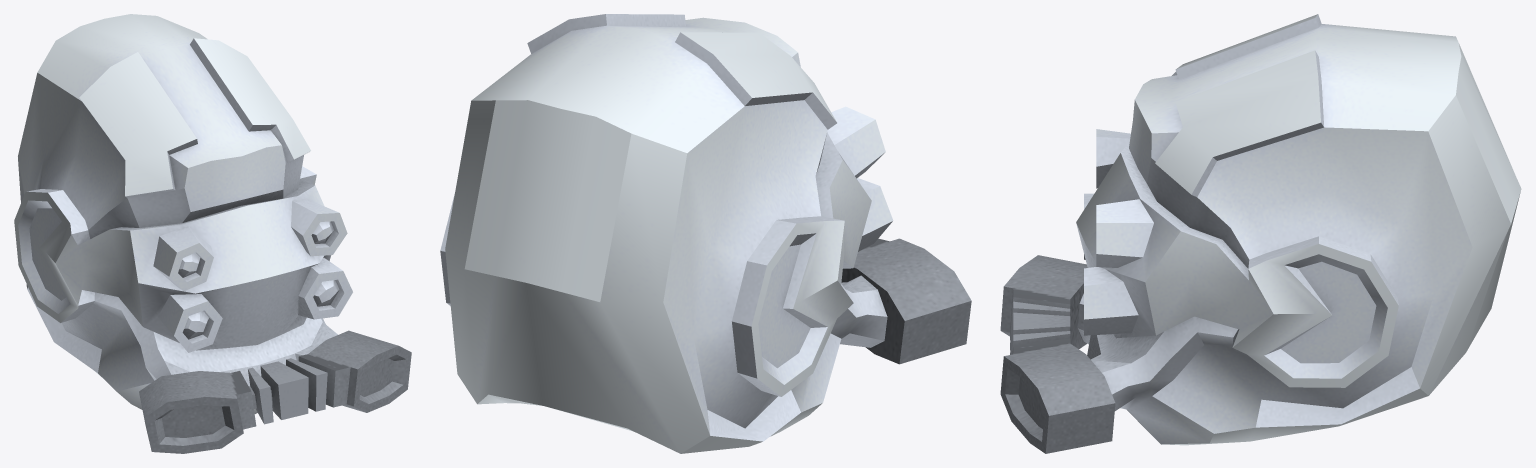
The model's file is helmet_0_silver.glb.
3 renders of one model, left to right at view 1: azimuth 30°, elevation 25°; view 2: azimuth 150°, elevation 25°; view 3: azimuth 270°, elevation 25°, orthographic. The views are drawn at different scales.
Parts seen in each view (by area): view 1: Helmet; view 2: Helmet; view 3: Helmet.
Part boxes in pixels (left/top/right/bottom): Helmet: left=14, top=14, right=411, bottom=453; Helmet: left=440, top=14, right=971, bottom=453; Helmet: left=1000, top=14, right=1521, bottom=453.
Bounding box in the file's own units: 0.3496 × 0.4121 × 0.4995.
Materials: 2 (2 with a texture image).
